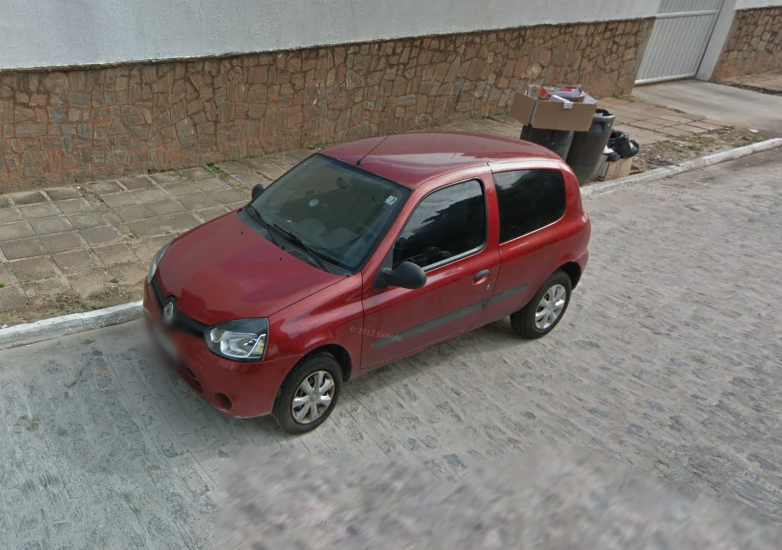car: (139, 126, 594, 435)
